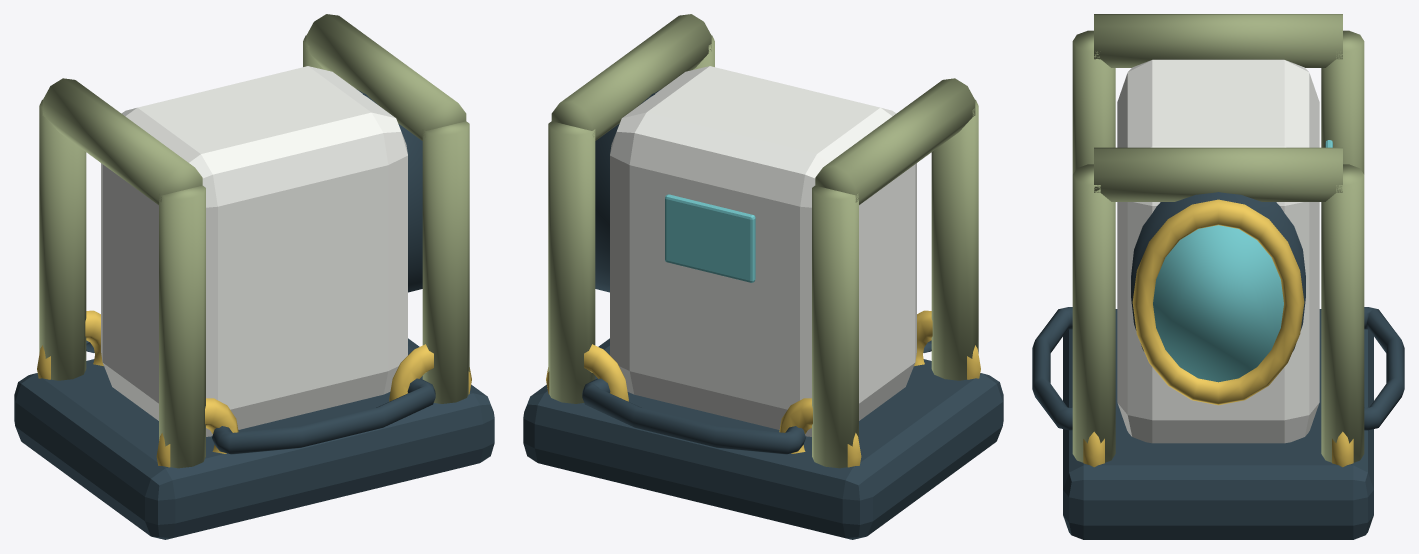
Rendered from optics.glb.
3 renders of one model, left to right at view 1: azimuth 30°, elevation 25°; view 2: azimuth 150°, elevation 25°; view 3: azimuth 270°, elevation 25°, orthographic. The views are drawn at different scales.
Visible parts, largest first — view 1: tyaga-optics-small-surface; view 2: tyaga-optics-small-surface; view 3: tyaga-optics-small-surface.
Part boxes in pixels (x1,y1,x2,y2): tyaga-optics-small-surface: (14, 14, 494, 539); tyaga-optics-small-surface: (523, 14, 1003, 539); tyaga-optics-small-surface: (1032, 14, 1404, 539).
Bounding box in the file's own units: 0.9 × 0.9 × 0.8.
